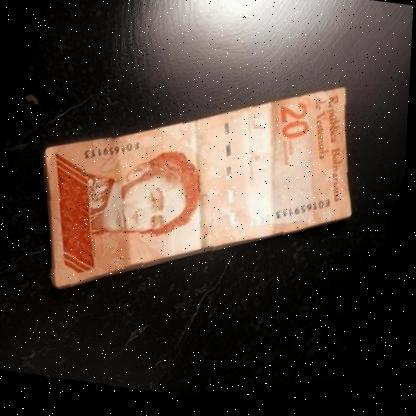twenty-front-vef: (7, 26, 391, 357)
